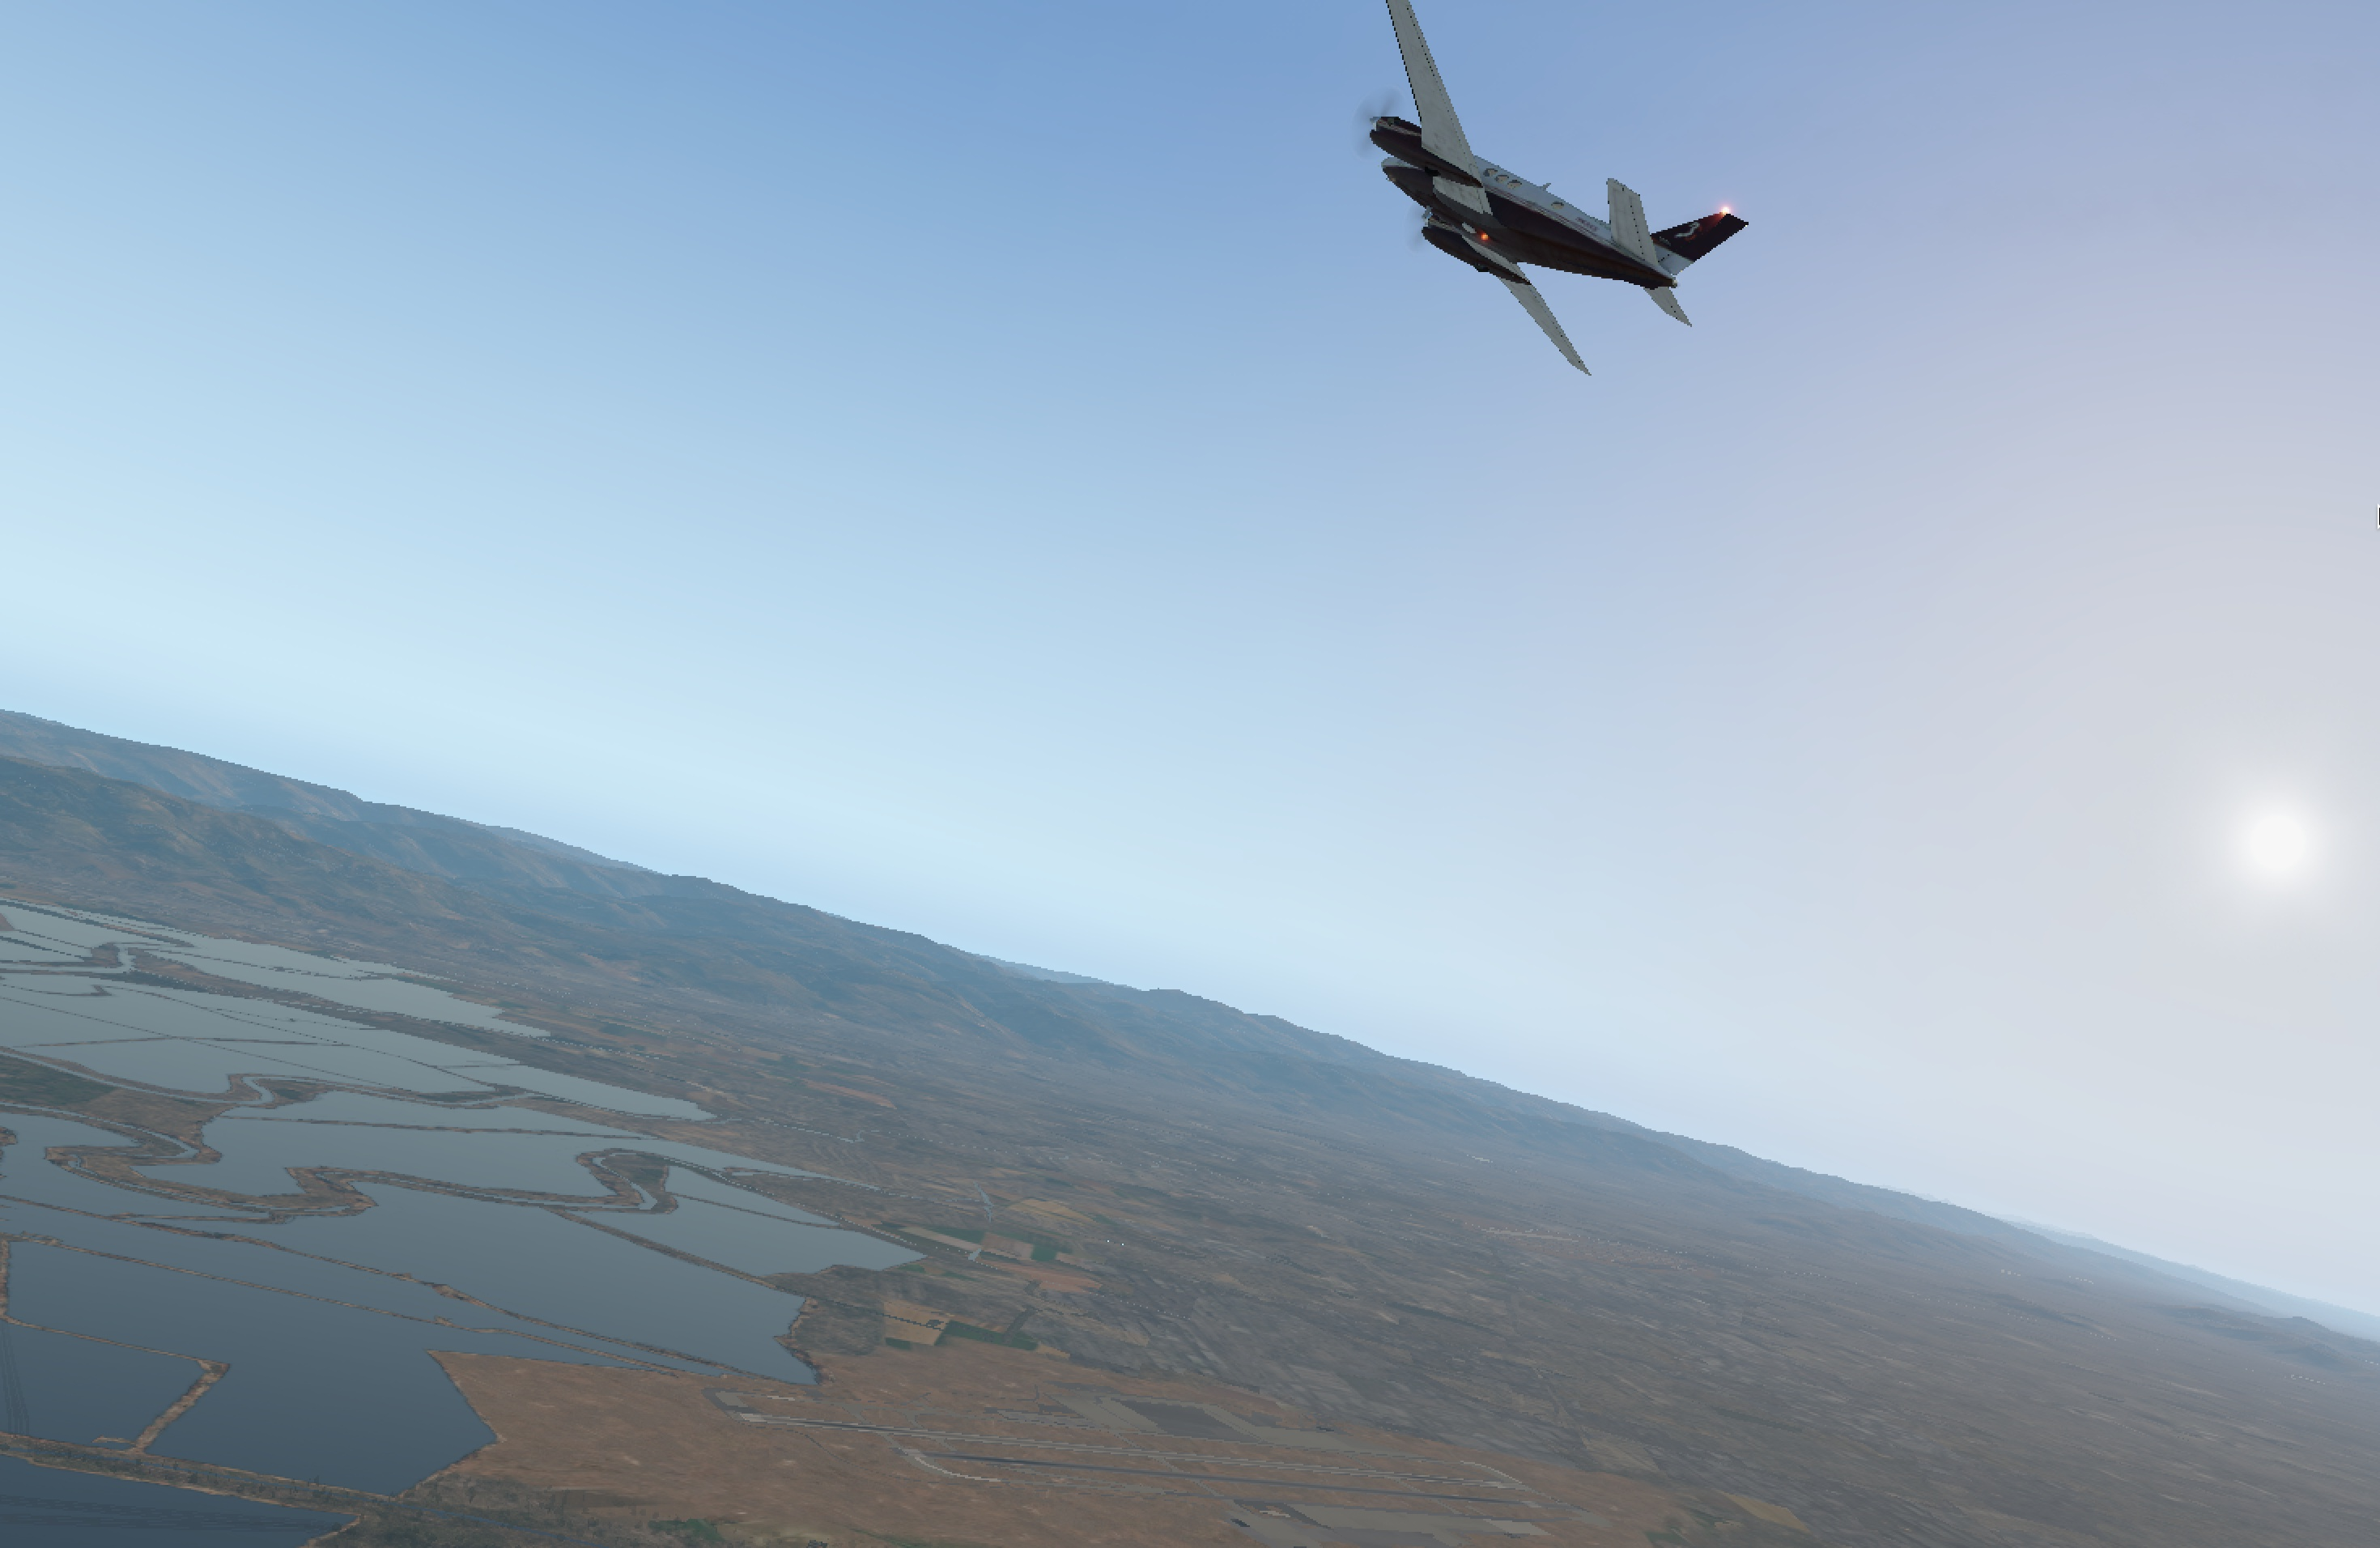aircraft: (1174, 109, 1743, 323)
